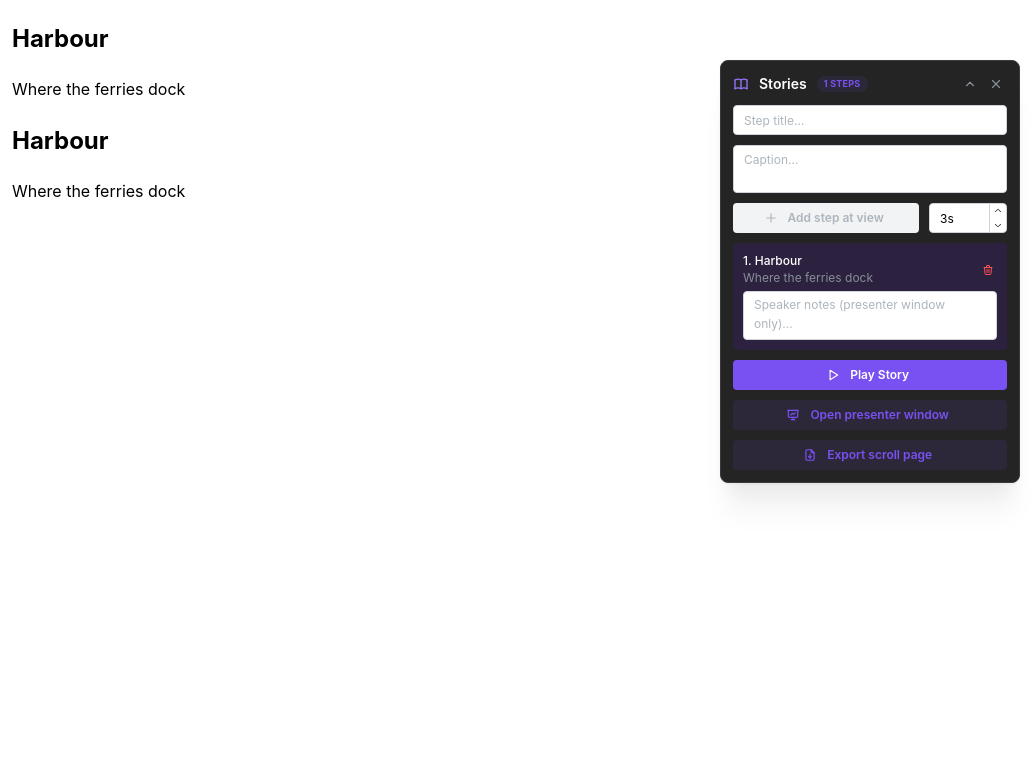
Test: exporting from the stories panel › refuses a basemap only this machine has
The image size is (1036, 768).
Click the button with test id "stories-export".
click(870, 455)  # box [733,440,1007,470]
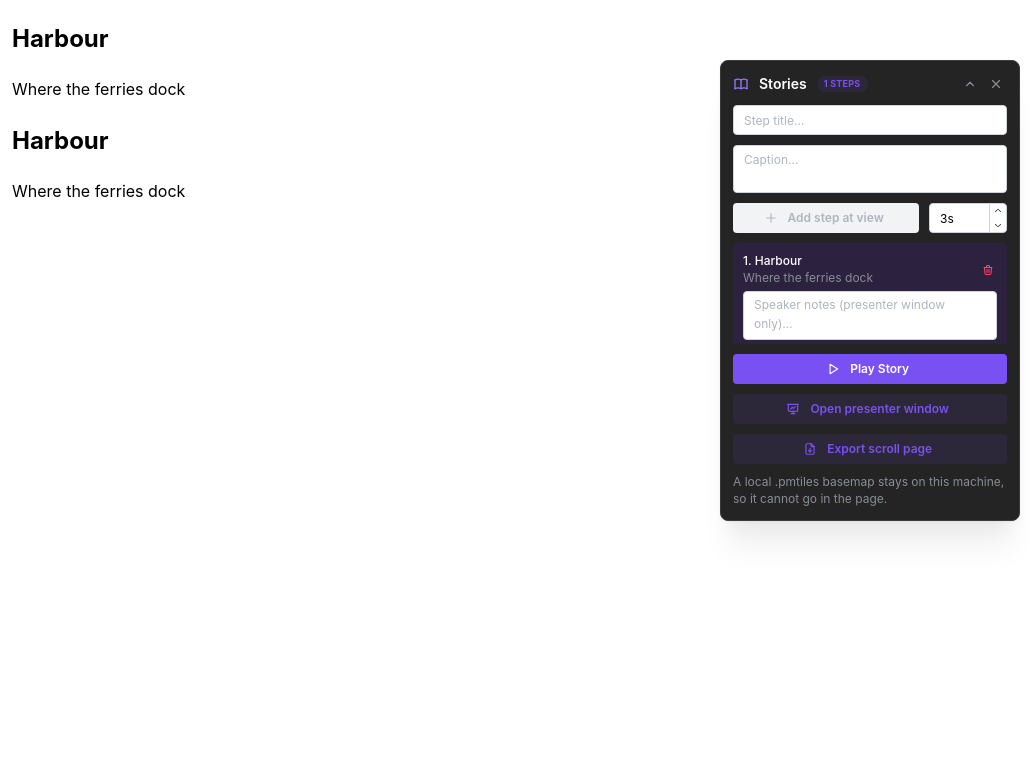
Check: the text "stays on this machine" is shown, box [733,474,1004,506]
